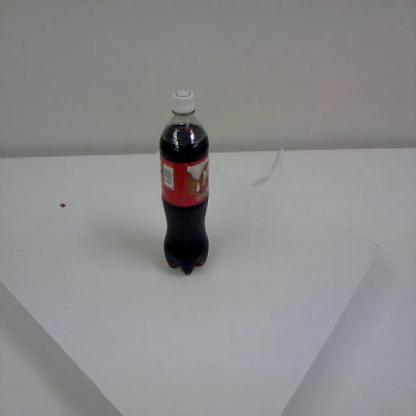bottle: (156, 87, 210, 277)
